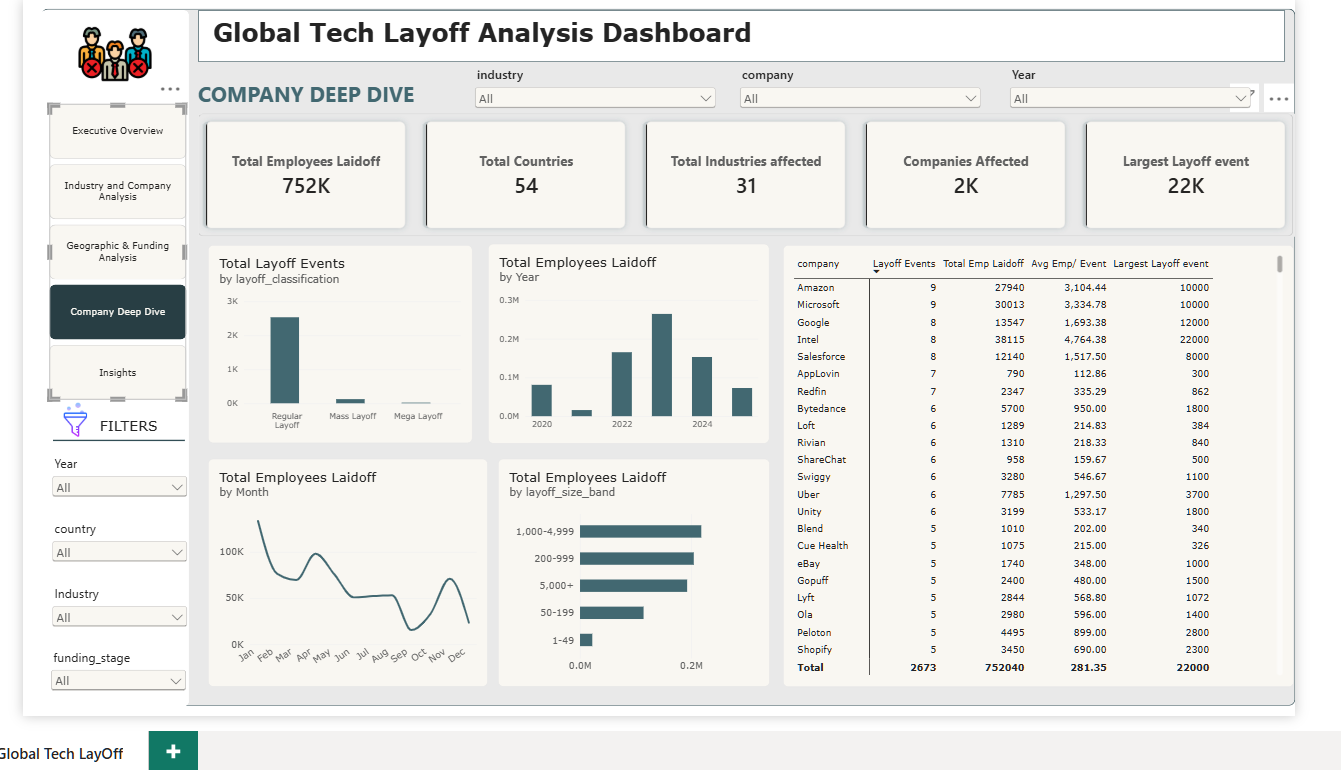

The dashboard page shown, as its layout file describes it:
{"tool":"powerbi","page":{"name":"Global Tech LayOff","canvas":[1920,1080],"ordinal":0},"visuals":[{"type":"shape","box":[29,12.7,1892,1052],"z":0},{"type":"shape","box":[27.1,14.5,224.4,1051.4],"z":1000},{"type":"slicer","fields":{"Values":["Date.Year"]},"box":[38.7,687.3,212.9,80.6],"z":3000},{"type":"slicer","fields":{"Values":["layoffs_events.country"]},"box":[38.7,785.6,212.9,80.6],"z":4000},{"type":"slicer","fields":{"Values":["layoffs_events.industry"]},"box":[38.7,883.9,212.9,77.4],"z":5000},{"type":"slicer","fields":{"Values":["layoffs_events.funding_stage"]},"box":[38,979,212.9,87.1],"z":6000},{"type":"textbox","box":[38,613.5,213.5,52.5],"z":7000},{"type":"image","box":[29,602.6,101.3,63.3],"z":8000},{"type":"shape","box":[45.2,613.5,199.1,103.2],"z":9000},{"type":"shape","box":[264.9,14.6,1640.8,78.6],"z":11000},{"type":"textbox","box":[285.9,27.1,843.3,72.4],"z":12000},{"type":"image","box":[72.4,27.1,133.9,110.4],"z":17000},{"type":"textbox","box":[285,165.1,807.9,870.8],"z":40000},{"type":"textbox","box":[1158.5,98.1,760.4,909.4],"z":41000},{"type":"bookmarkNavigator","box":[40,156,207.5,447.5],"z":41001},{"type":"shape","box":[1084,164.7,74.2,843.3],"z":41002}]}

Visuals, with their boxes on the page's 1920x1080 design canvas (x1, y1, x2, y2). These are canvas units, not pixel positions in the 1341x770 screenshot, which may show the page scaled, cropped or inside an application window:
shape: bbox(29, 13, 1921, 1065)
shape: bbox(27, 14, 252, 1066)
slicer - Date.Year: bbox(39, 687, 252, 768)
slicer - layoffs_events.country: bbox(39, 786, 252, 866)
slicer - layoffs_events.industry: bbox(39, 884, 252, 961)
slicer - layoffs_events.funding_stage: bbox(38, 979, 251, 1066)
textbox: bbox(38, 614, 252, 666)
image: bbox(29, 603, 130, 666)
shape: bbox(45, 614, 244, 717)
shape: bbox(265, 15, 1906, 93)
textbox: bbox(286, 27, 1129, 100)
image: bbox(72, 27, 206, 138)
textbox: bbox(285, 165, 1093, 1036)
textbox: bbox(1158, 98, 1919, 1008)
bookmarkNavigator: bbox(40, 156, 248, 604)
shape: bbox(1084, 165, 1158, 1008)
